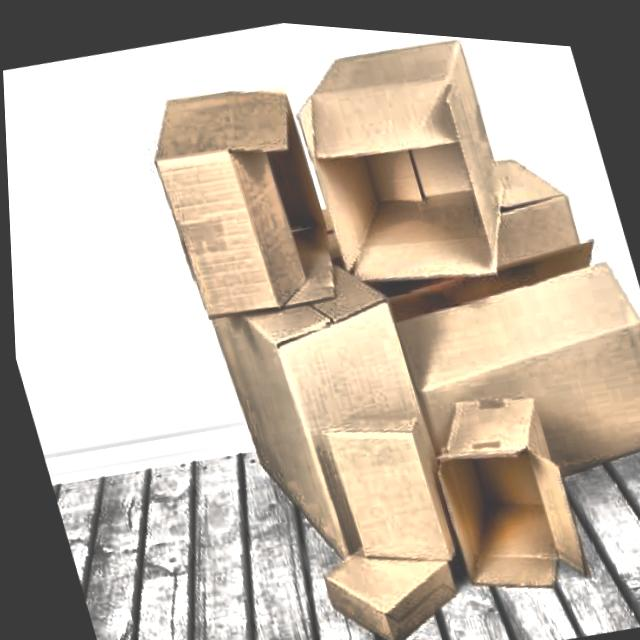Cardbox: (180, 217, 463, 590), (260, 17, 557, 314), (123, 64, 345, 331), (413, 367, 620, 618), (284, 372, 466, 586), (260, 485, 470, 640)
